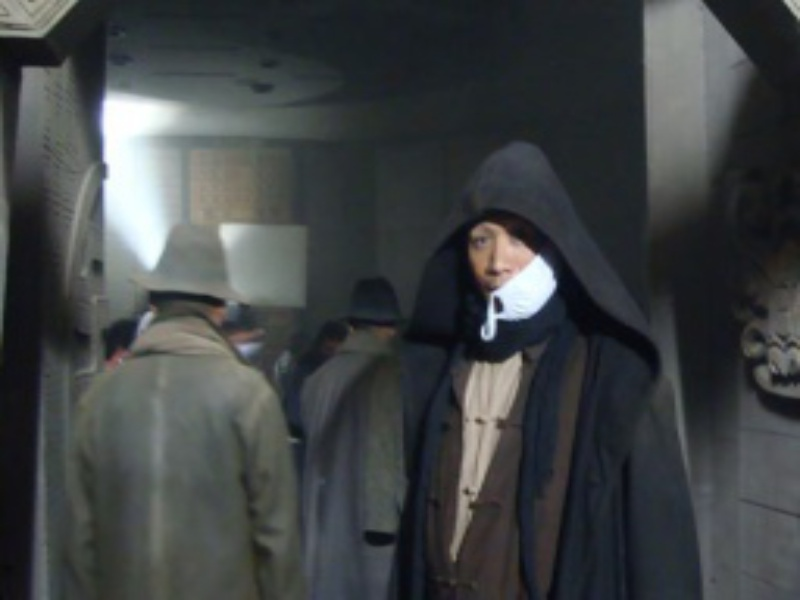ManaoArotava: (440, 155, 601, 350)
